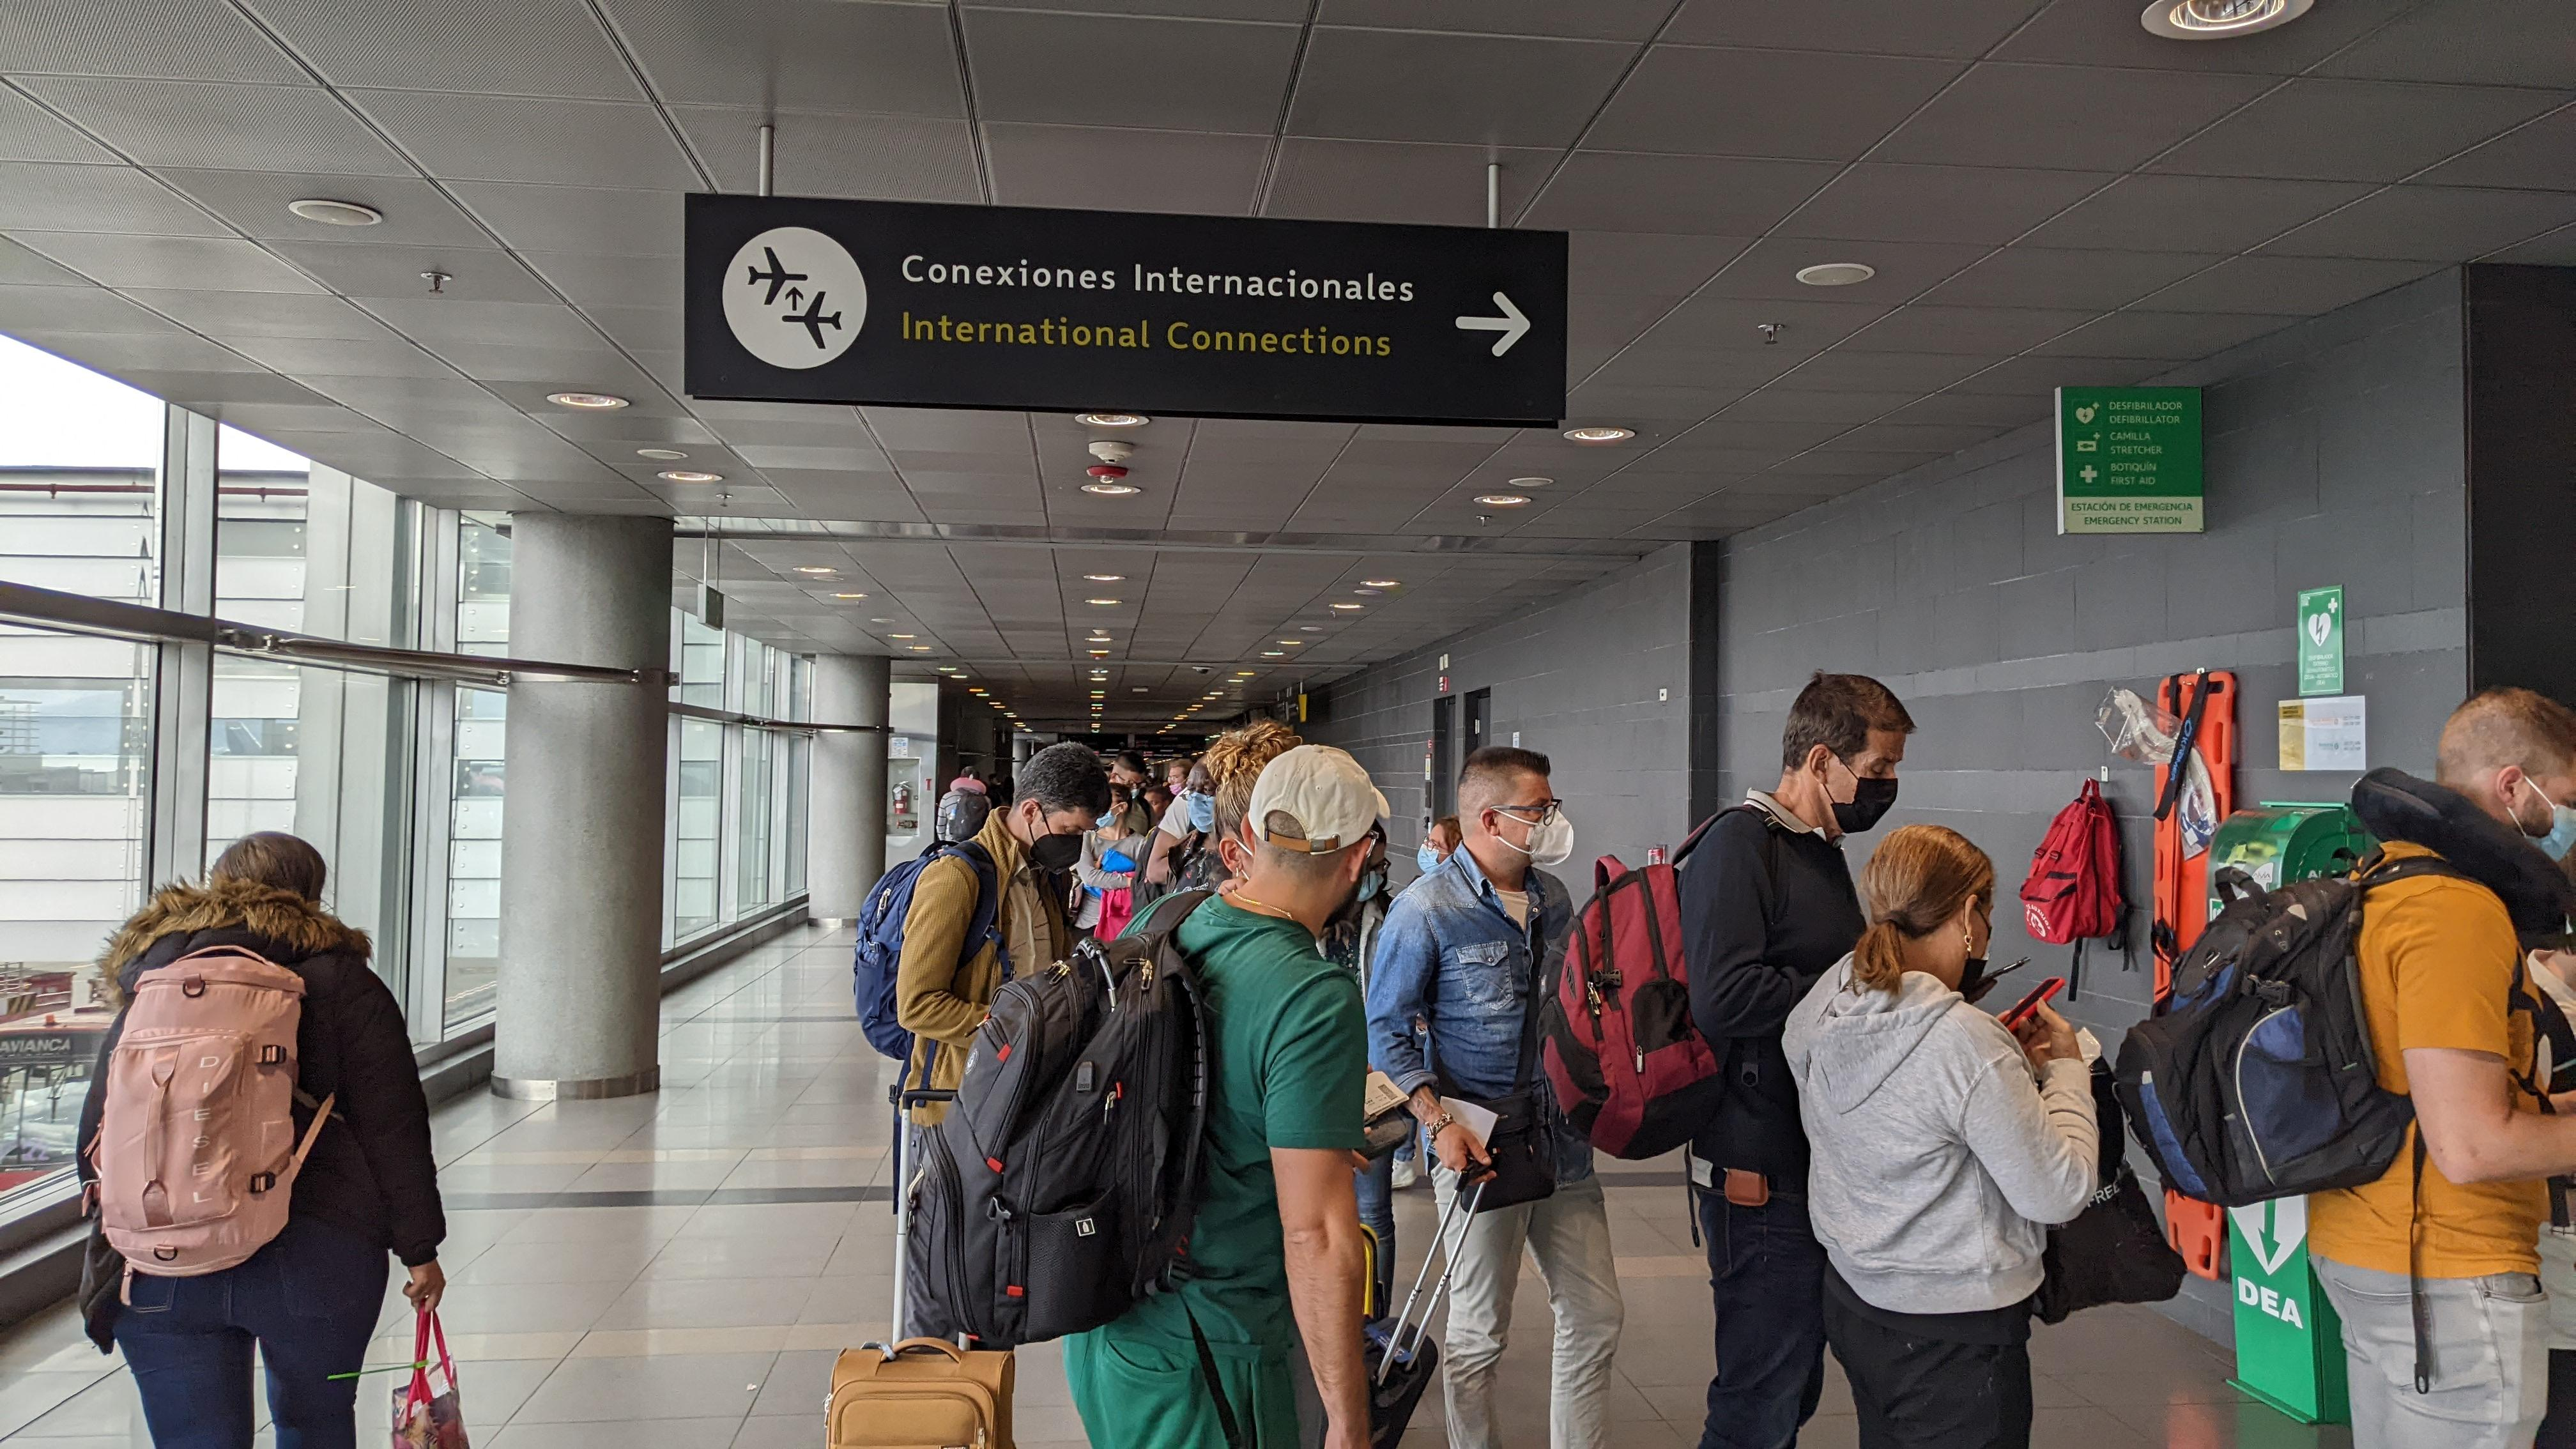right arrow: (1456, 288, 1532, 361)
